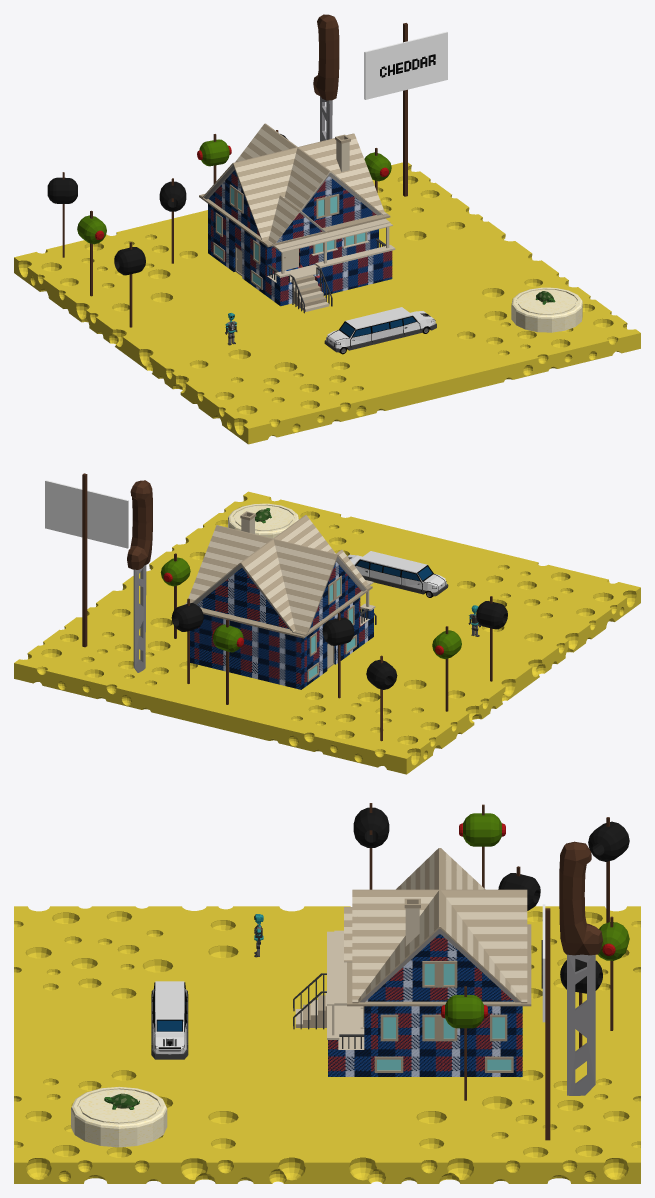
The picture shows the model from 3 angles, top to bottom: view 1: azimuth 30°, elevation 25°; view 2: azimuth 150°, elevation 25°; view 3: azimuth 270°, elevation 25°; orthographic projection. The views are drawn at different scales.
Visible parts, largest first — view 1: Cube.022, Cube.171, Cube.023, VEHICLES_LIMOUSINE, Cylinder.016, Cube.024, Sphere.017, Sphere.016, Sphere.020, Sphere.018, Sphere.022, Sphere.019; view 2: Cube.022, Cube.171, Cube.023, Cube.024, VEHICLES_LIMOUSINE, Cylinder.016, Sphere.017, Sphere.020, Sphere.021, Sphere.016, Sphere.018, Sphere.022 (+1 smaller); view 3: Cube.022, Cube.171, Cube.024, Cylinder.016, VEHICLES_LIMOUSINE, Cube.023, Sphere.019, Sphere.016, Sphere.018, Sphere.017, Sphere.022, Sphere.020 (+1 smaller).
Part boxes in pixels (x1=…): Cube.022: x1=14, y1=162, x2=640, y2=444; Cube.171: x1=199, y1=123, x2=395, y2=313; Cube.023: x1=364, y1=23, x2=447, y2=196; VEHICLES_LIMOUSINE: x1=324, y1=307, x2=436, y2=354; Cylinder.016: x1=511, y1=287, x2=582, y2=332; Cube.024: x1=313, y1=14, x2=339, y2=141; Sphere.017: x1=114, y1=242, x2=145, y2=327; Sphere.016: x1=47, y1=172, x2=77, y2=257; Sphere.020: x1=159, y1=178, x2=186, y2=263; Sphere.018: x1=77, y1=210, x2=106, y2=296; Sphere.022: x1=197, y1=134, x2=231, y2=183; Sphere.019: x1=364, y1=148, x2=391, y2=192; Cube.022: x1=14, y1=491, x2=640, y2=774; Cube.171: x1=184, y1=511, x2=376, y2=689; Cube.023: x1=45, y1=473, x2=128, y2=647; Cube.024: x1=127, y1=480, x2=152, y2=672; VEHICLES_LIMOUSINE: x1=347, y1=551, x2=448, y2=597; Cylinder.016: x1=228, y1=503, x2=298, y2=538; Sphere.017: x1=476, y1=596, x2=507, y2=681; Sphere.020: x1=322, y1=612, x2=354, y2=698; Sphere.021: x1=171, y1=598, x2=203, y2=683; Sphere.016: x1=366, y1=655, x2=397, y2=741; Sphere.018: x1=432, y1=626, x2=461, y2=711; Sphere.022: x1=212, y1=619, x2=244, y2=704; Cube.022: x1=14, y1=906, x2=640, y2=1183; Cube.171: x1=293, y1=848, x2=531, y2=1076; Cube.024: x1=559, y1=841, x2=602, y2=1095; Cylinder.016: x1=71, y1=1086, x2=167, y2=1147; VEHICLES_LIMOUSINE: x1=151, y1=981, x2=188, y2=1059; Cube.023: x1=541, y1=904, x2=550, y2=1140; Sphere.019: x1=441, y1=986, x2=487, y2=1100; Sphere.016: x1=588, y1=817, x2=629, y2=922; Sphere.018: x1=459, y1=804, x2=505, y2=888; Sphere.017: x1=353, y1=803, x2=389, y2=889; Sphere.022: x1=598, y1=916, x2=629, y2=1030; Sphere.020: x1=498, y1=866, x2=540, y2=910.
Bounding box in the file's own units: 3917 × 2007 × 4000.
43 materials, 4 textured.
